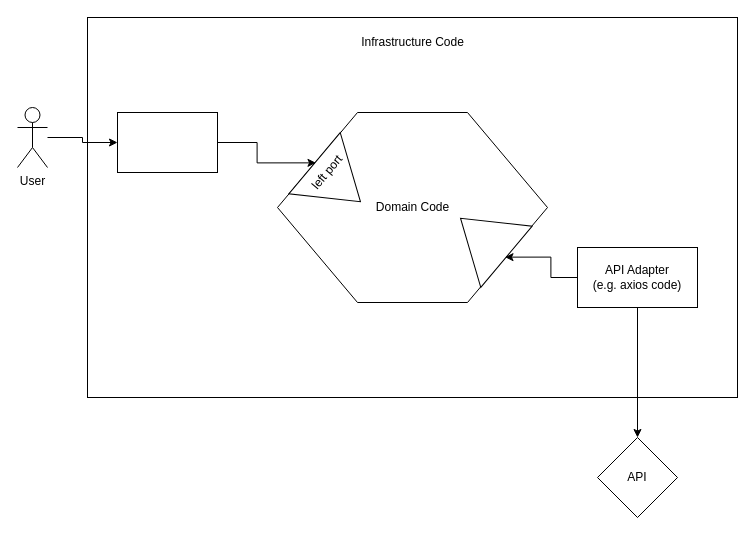
Some shapes in this 755 by 535 pixel diagram are drawn without their labels. Here are the shapes that lost their labels. From the top down, the box of each, then its label:
(116, 112, 218, 172): React Code lives only here
(434, 186, 532, 288): right port
